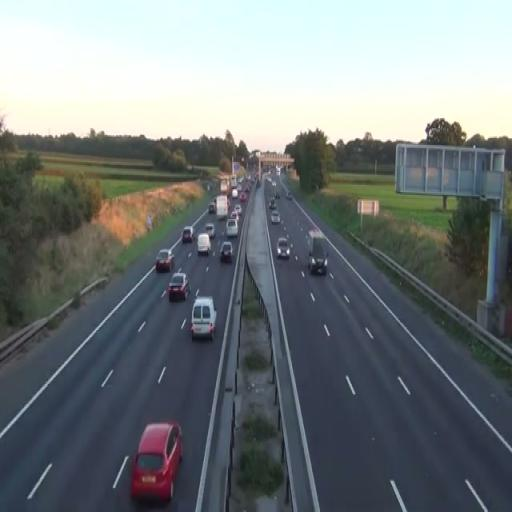Car: (130, 420, 184, 504), (190, 296, 216, 341), (168, 272, 190, 302), (155, 249, 175, 273), (197, 233, 211, 256), (277, 238, 290, 260), (220, 242, 232, 263), (226, 218, 238, 238), (182, 226, 195, 243), (270, 210, 281, 224), (205, 223, 215, 238)
Truck: (308, 228, 328, 275)
